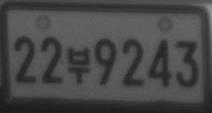2: (121, 37, 145, 86), (40, 36, 63, 83), (14, 34, 36, 83)
3: (175, 41, 199, 88)
4: (148, 38, 172, 88)
9: (94, 37, 117, 85)
부: (67, 46, 90, 84)
